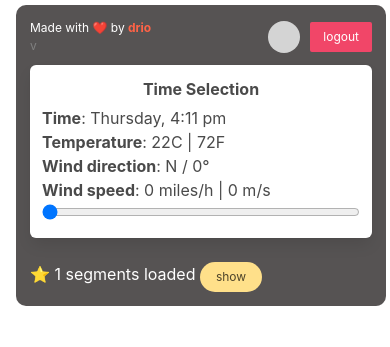
<Controls/> › renders the list of segments when the user requests it
Click the button with id "hideShowButton": (231,277) x1=200 y1=262 x2=262 y2=292
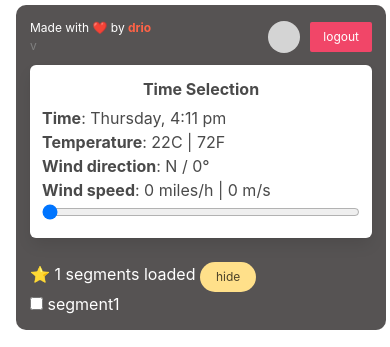
Now the button with id "hideShowButton" reads "hide"
Now the number of checkboxes is 1, box x1=30 y1=297 x2=43 y2=310
Click the button with id "hideShowButton": (228,277) x1=200 y1=262 x2=256 y2=292
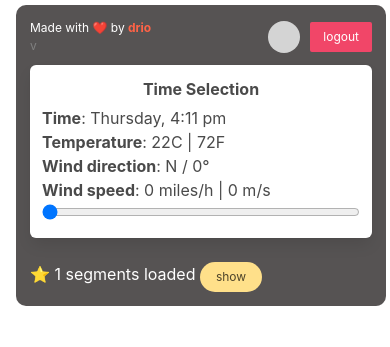
Now the button with id "hideShowButton" reads "show", box x1=200 y1=262 x2=262 y2=292
Now no checkboxes are shown
